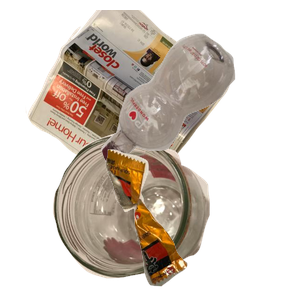glass: (50, 131, 252, 300)
paper: (23, 10, 245, 190)
plastic: (99, 31, 300, 189)
trash: (103, 147, 300, 300)
